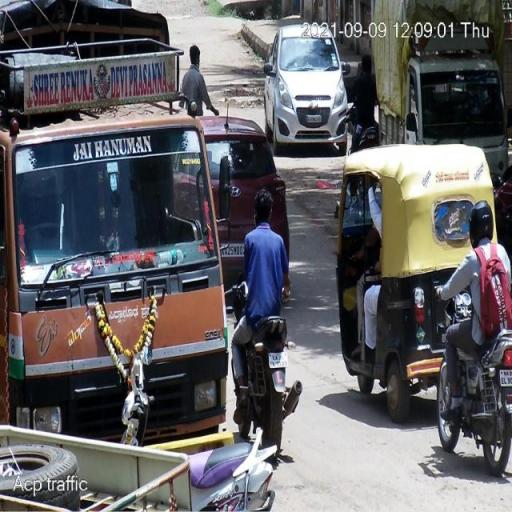using mobile: (252, 206, 258, 229)
